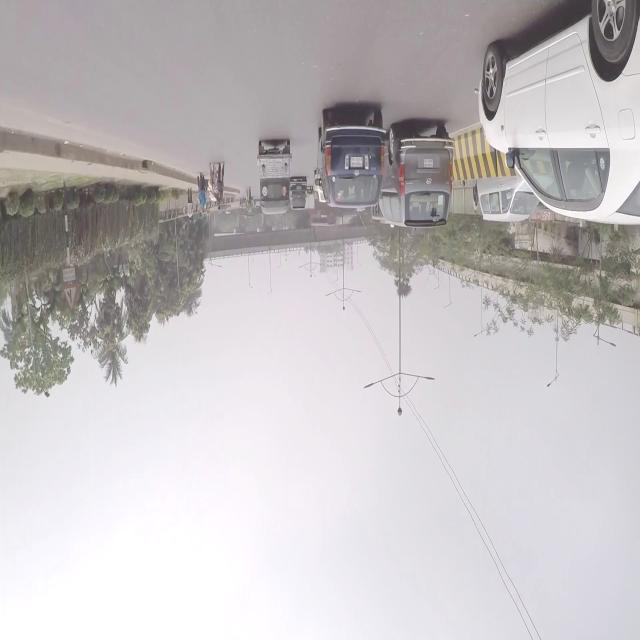black: (289, 175, 309, 212)
blue: (314, 108, 386, 211)
silver: (378, 123, 455, 230), (478, 166, 536, 223)
white: (488, 2, 640, 193)
